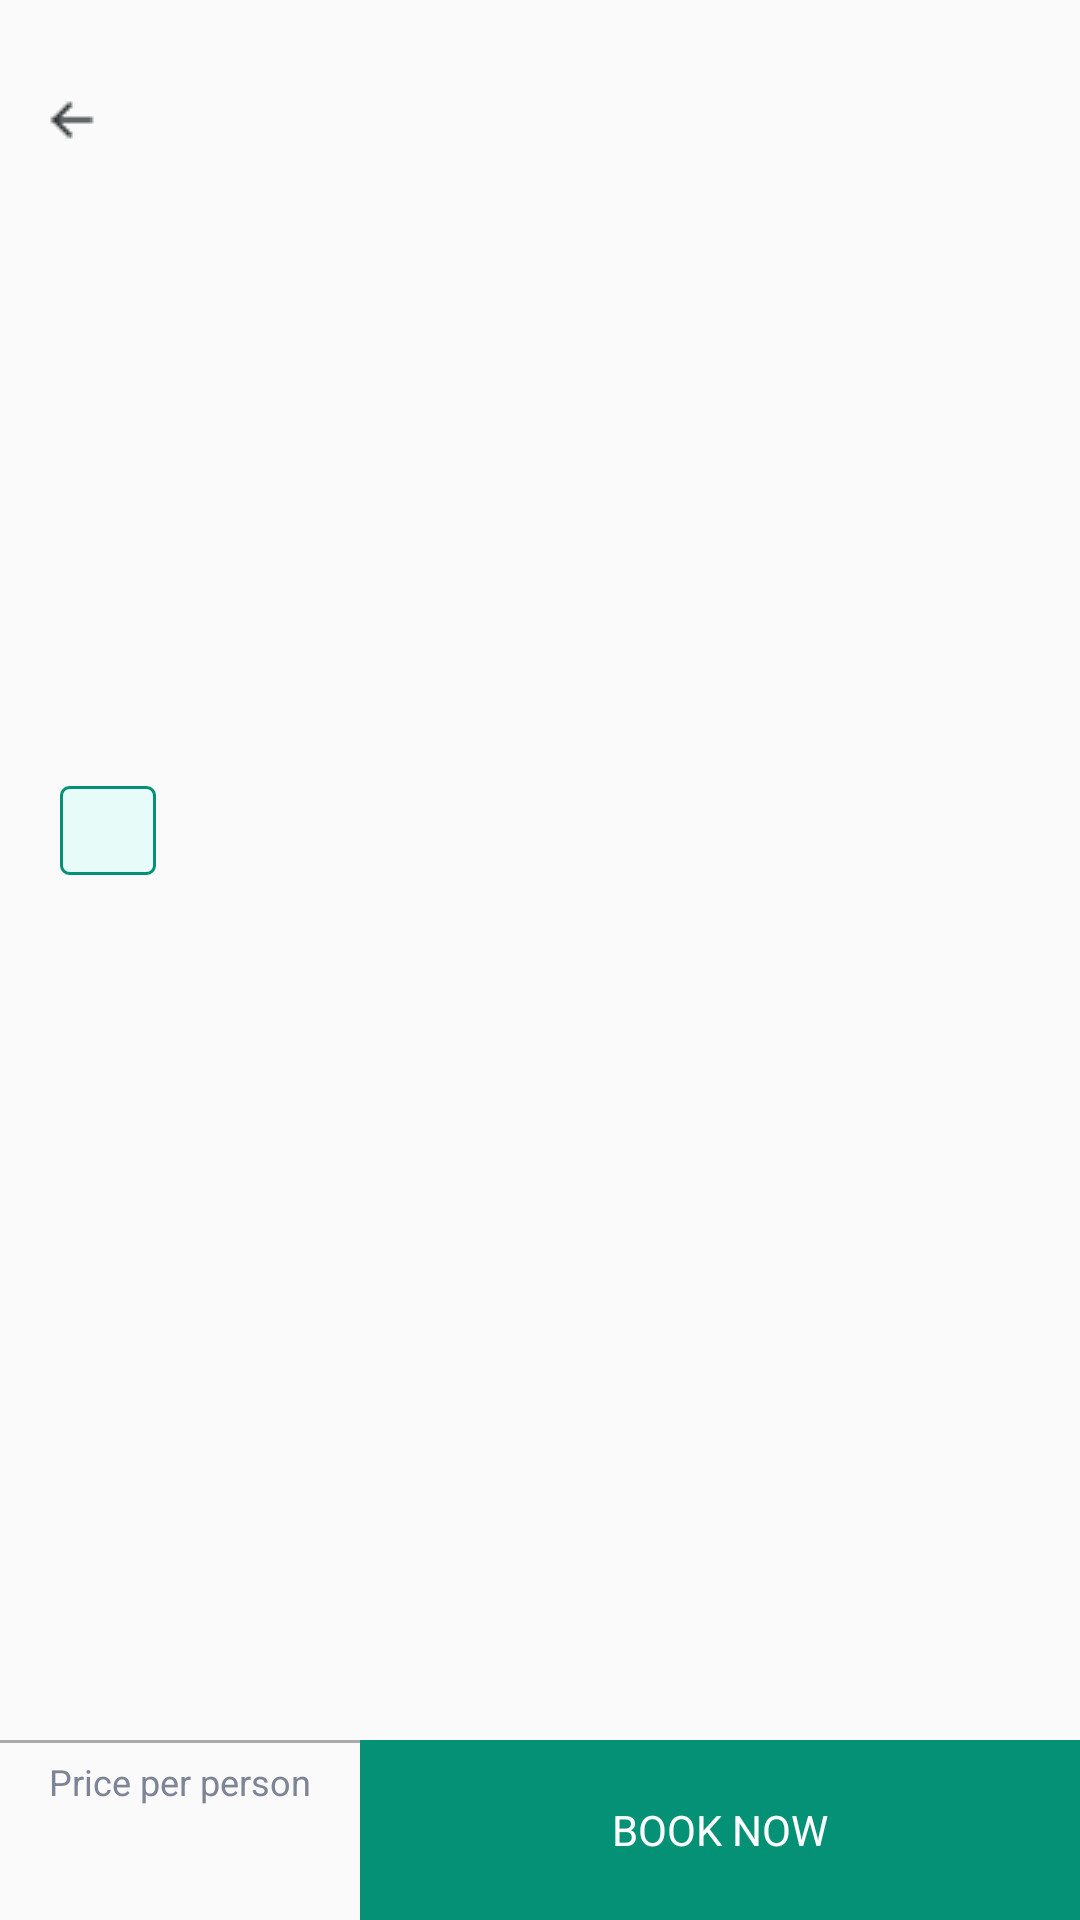

Named icons in this screenshot (1080px x 1920px) and their centers, point (x, y):
back: point (72, 120)
